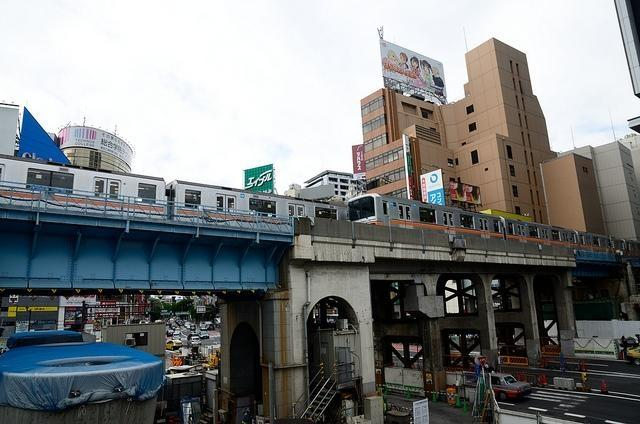car: (458, 374, 532, 406), (628, 346, 640, 366), (165, 340, 182, 350), (188, 336, 202, 346), (198, 329, 210, 340), (186, 334, 198, 340), (200, 324, 214, 329), (172, 333, 182, 340), (174, 328, 182, 336), (189, 323, 196, 331), (167, 330, 174, 338), (171, 323, 179, 330), (187, 324, 190, 330)
truck: (200, 322, 216, 331)
